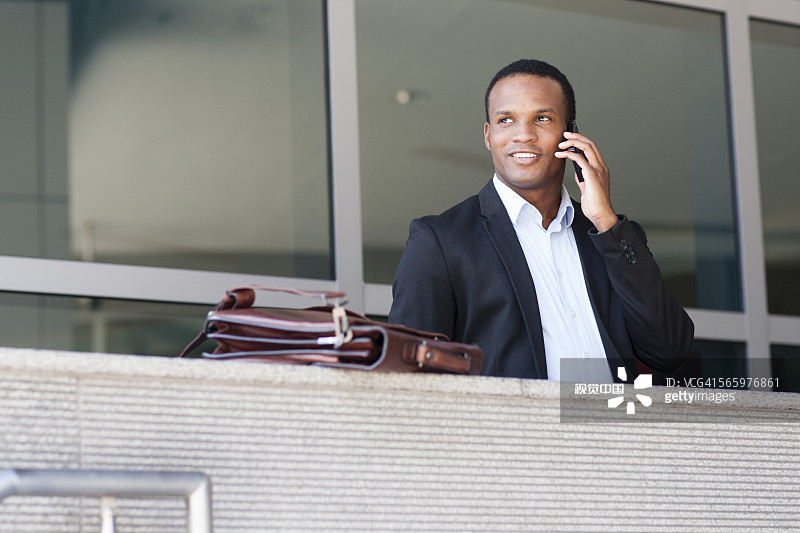calling: (540, 118, 641, 234)
